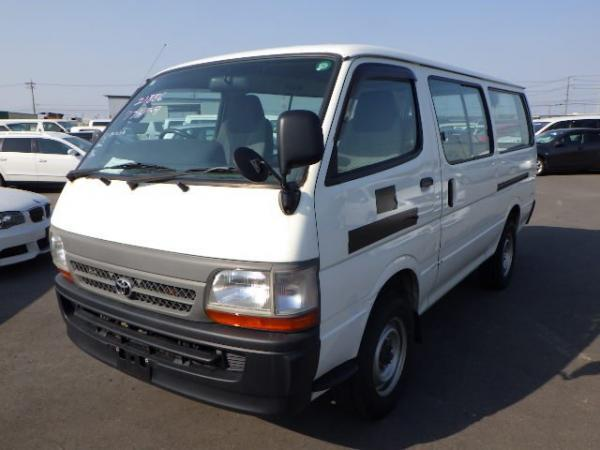Van: (47, 39, 545, 407)
